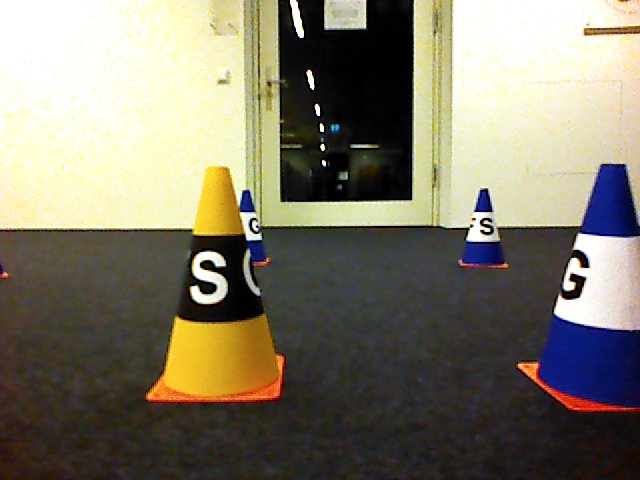bluecone: (517, 163, 640, 416), (458, 186, 511, 269)
yellowcone: (144, 165, 284, 404)
